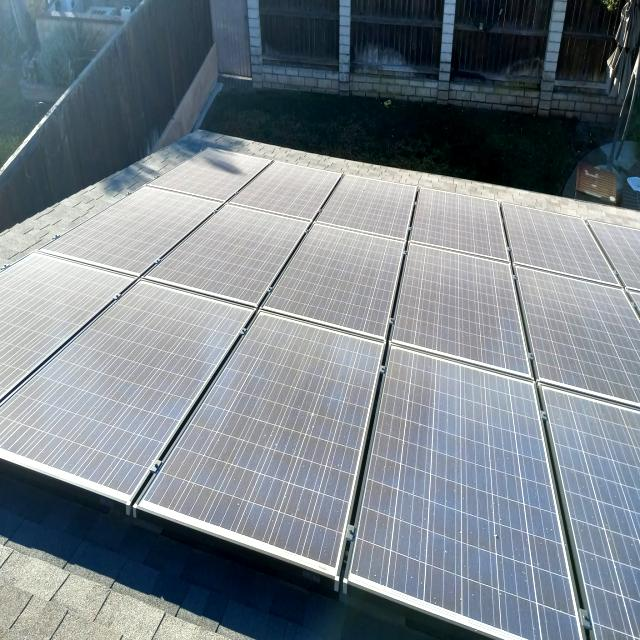dust: (436, 395, 522, 609), (244, 400, 324, 490)
